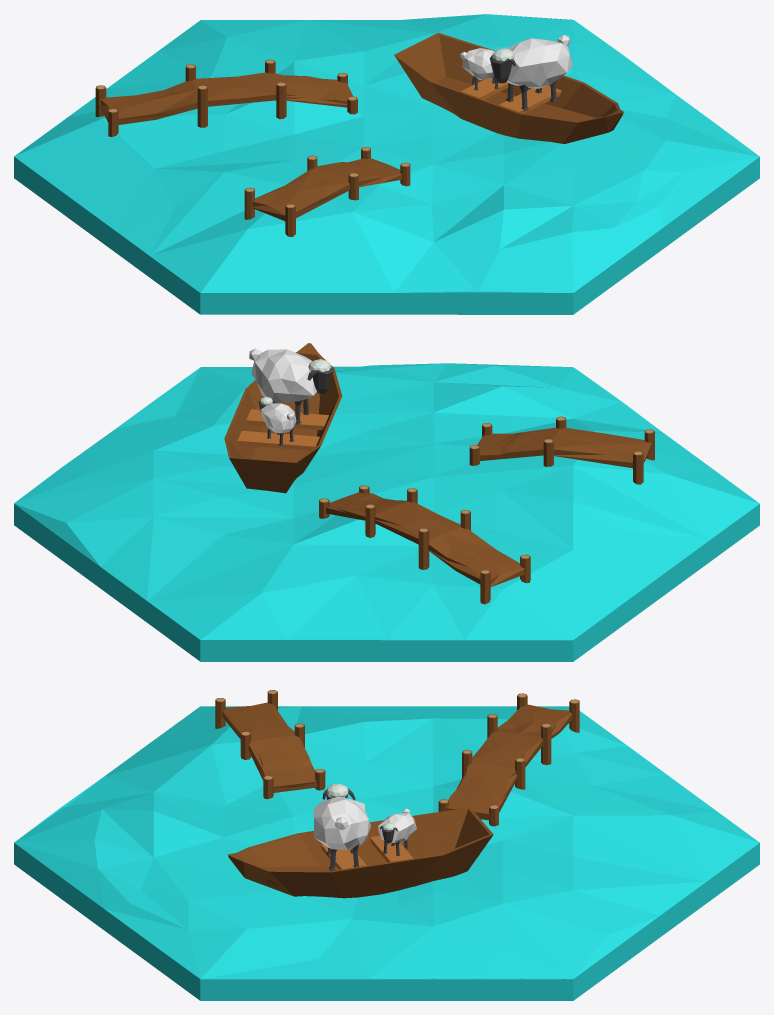
The model's file is sheepPort.fbx.
The picture shows the model from 3 angles, top to bottom: view 1: azimuth 30°, elevation 25°; view 2: azimuth 150°, elevation 25°; view 3: azimuth 270°, elevation 25°; orthographic projection.
Parts seen in each view (by area): view 1: Cylinder.010; view 2: Cylinder.010; view 3: Cylinder.010.
Boxes of the visible parts, x1,y1,x2,y2 form: Cylinder.010: (14,14,759,314); Cylinder.010: (14,343,759,661); Cylinder.010: (14,690,759,1000).
Size of the model in its own units: 173 by 37.03 by 200.
